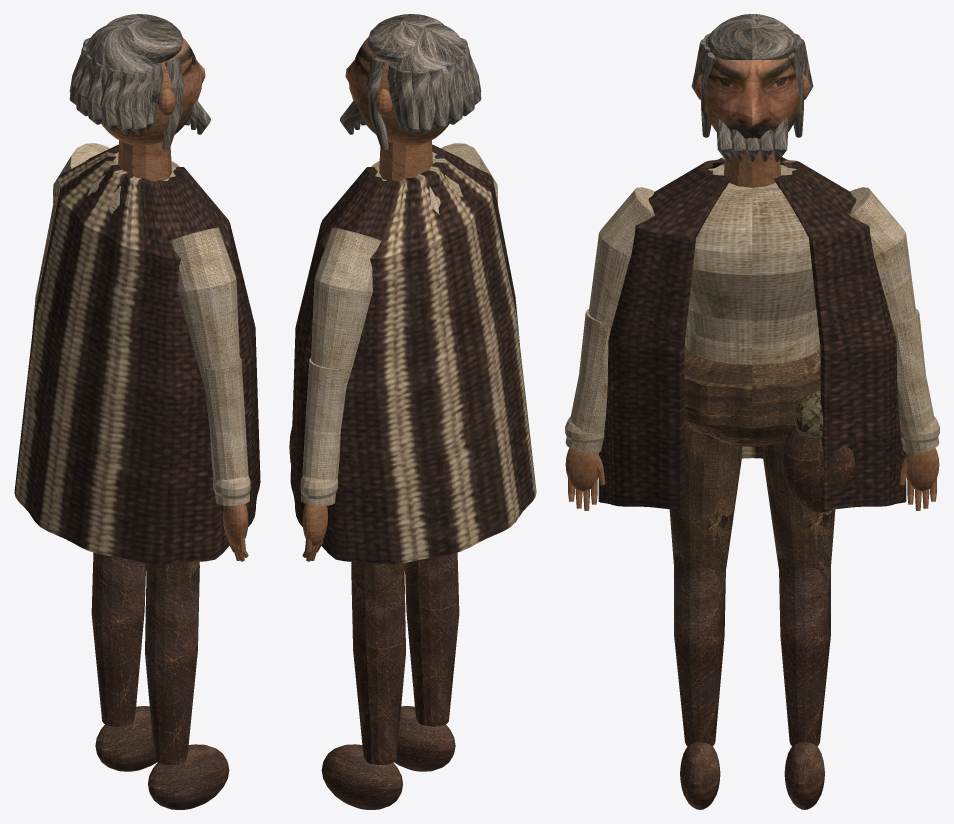
File: salamanca.obj
3 views of the same model, side by side, from view 1: azimuth 30°, elevation 25°; view 2: azimuth 150°, elevation 25°; view 3: azimuth 270°, elevation 25° (orthographic).
Parts seen in each view (by area): view 1: poncho_poncho, left_shin_leather, right_shin_leather, left_upper_ivory, left_fore_ivory, left_foot_leather, right_foot_leather, hair_mass_hair, hair_crown_hair, neck_skin, head_face, head_skin (+10 smaller); view 2: poncho_poncho, right_shin_leather, left_shin_leather, right_upper_ivory, right_fore_ivory, right_foot_leather, left_foot_leather, hair_mass_hair, hair_crown_hair, neck_skin, head_face, head_skin (+10 smaller); view 3: poncho_poncho, torso_ivory, right_shin_leather, left_shin_leather, left_thigh_rags, head_face, waist_sash_rags, pelvis_rags, right_thigh_rags, left_upper_ivory, right_upper_ivory, left_fore_ivory (+9 smaller).
Boxes of the visible parts, x1,y1,x2,y2 form: poncho_poncho: (14, 144, 260, 564); left_shin_leather: (145, 565, 199, 764); right_shin_leather: (91, 552, 145, 726); left_upper_ivory: (169, 227, 239, 382); left_fore_ivory: (203, 358, 249, 505); left_foot_leather: (148, 744, 229, 809); right_foot_leather: (95, 706, 156, 771); hair_mass_hair: (82, 23, 161, 127); hair_crown_hair: (107, 14, 183, 63); neck_skin: (118, 140, 171, 181); head_face: (174, 37, 205, 134); head_skin: (101, 56, 183, 145); poncho_poncho: (290, 144, 536, 564); right_shin_leather: (351, 565, 405, 764); left_shin_leather: (405, 552, 459, 726); right_upper_ivory: (311, 227, 381, 382); right_fore_ivory: (301, 358, 347, 505); right_foot_leather: (321, 744, 402, 809); left_foot_leather: (394, 706, 455, 771); hair_mass_hair: (389, 23, 468, 127); hair_crown_hair: (367, 14, 443, 63); neck_skin: (379, 140, 432, 181); head_face: (345, 37, 376, 134); head_skin: (367, 56, 449, 145); poncho_poncho: (598, 157, 906, 509); torso_ivory: (685, 164, 819, 364); right_shin_leather: (779, 561, 830, 746); left_shin_leather: (674, 561, 725, 746); left_thigh_rags: (669, 424, 741, 573); head_face: (705, 57, 799, 139); waist_sash_rags: (684, 375, 820, 428); pelvis_rags: (684, 344, 820, 446); right_thigh_rags: (763, 442, 835, 573); left_upper_ivory: (588, 187, 654, 332); right_upper_ivory: (850, 187, 916, 332); left_fore_ivory: (565, 309, 610, 453).
Size of the model in its own units: 24.76 by 100 by 44.12.
Materials: 1 (1 with a texture image).
